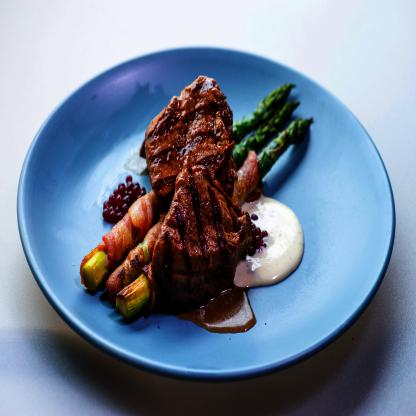Carne: (150, 168, 261, 305), (143, 72, 236, 192)
